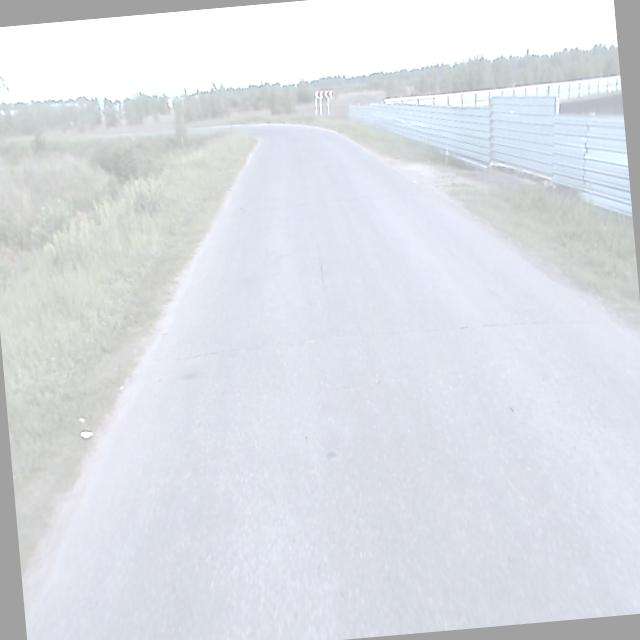road: (26, 122, 640, 640)
